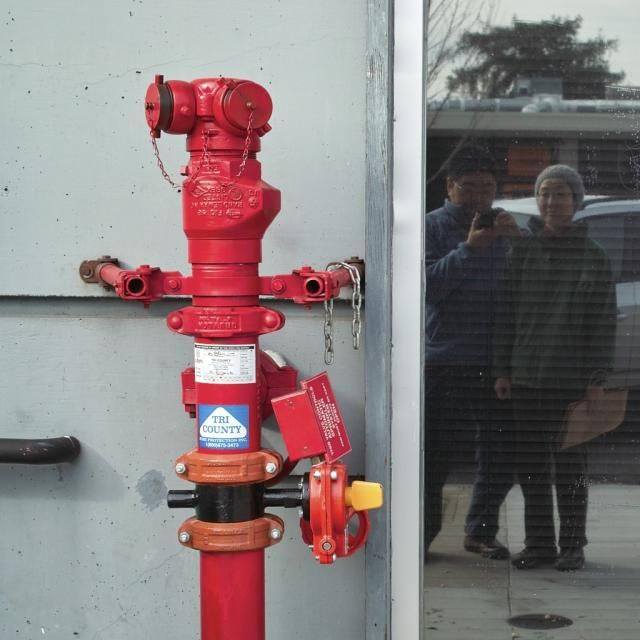fire_hydrant: (82, 78, 380, 638)
